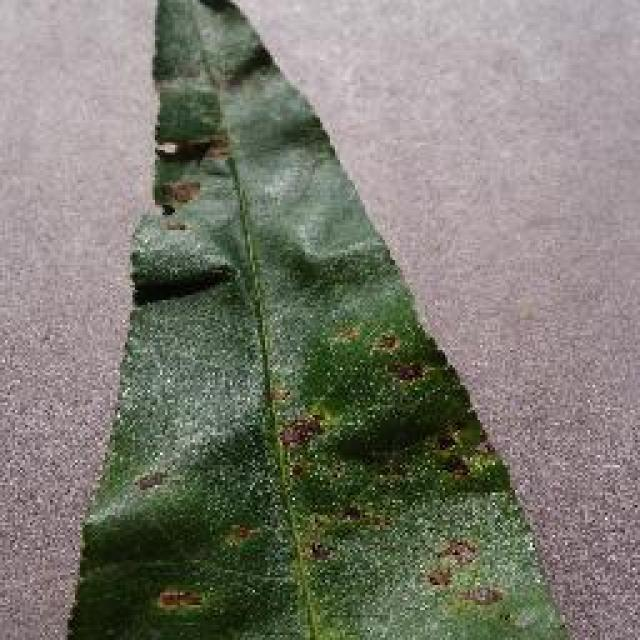Peach_Bacterial_Spot: (166, 144, 422, 548)
